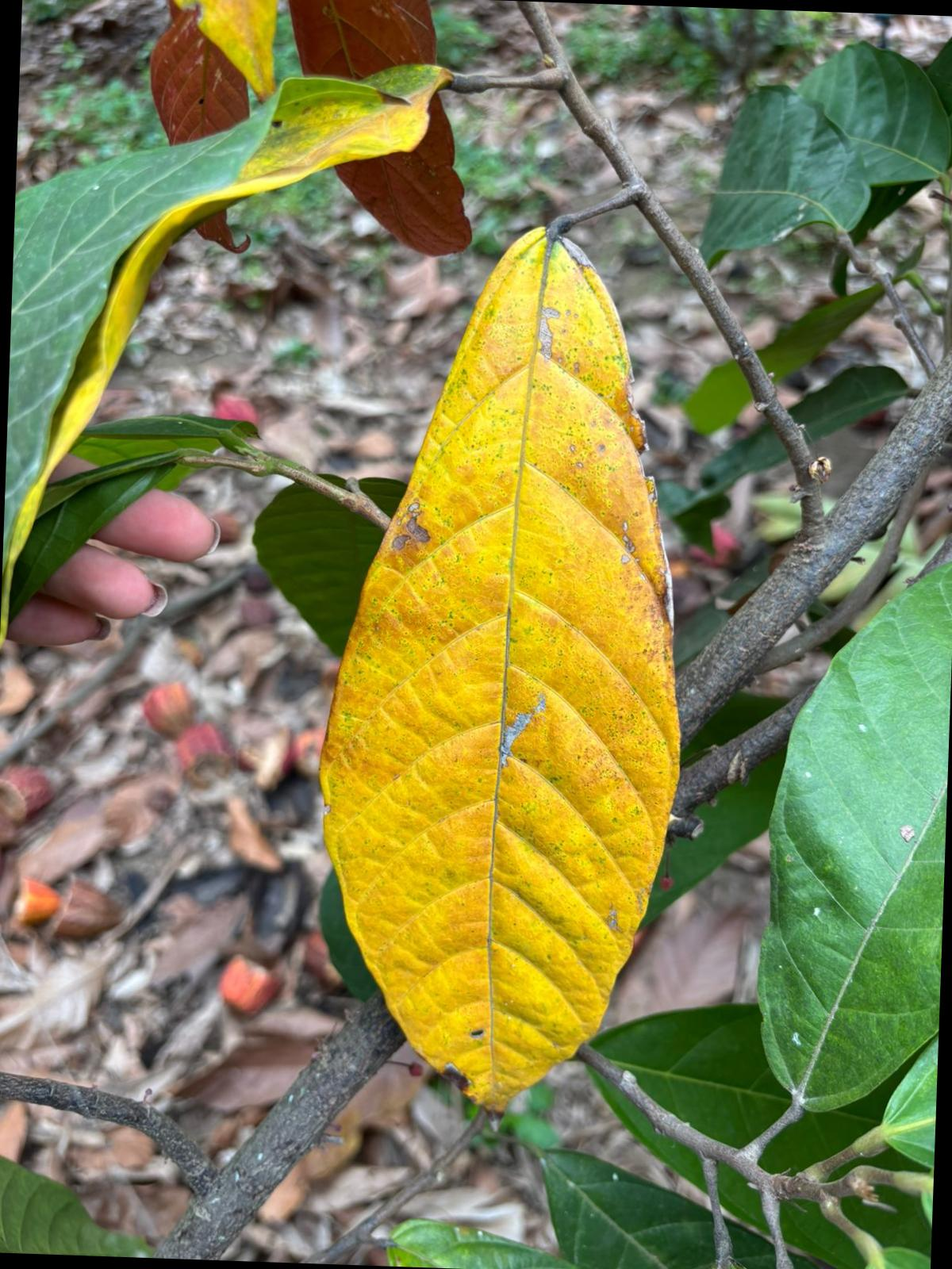Fosforo: (321, 229, 678, 1109)
